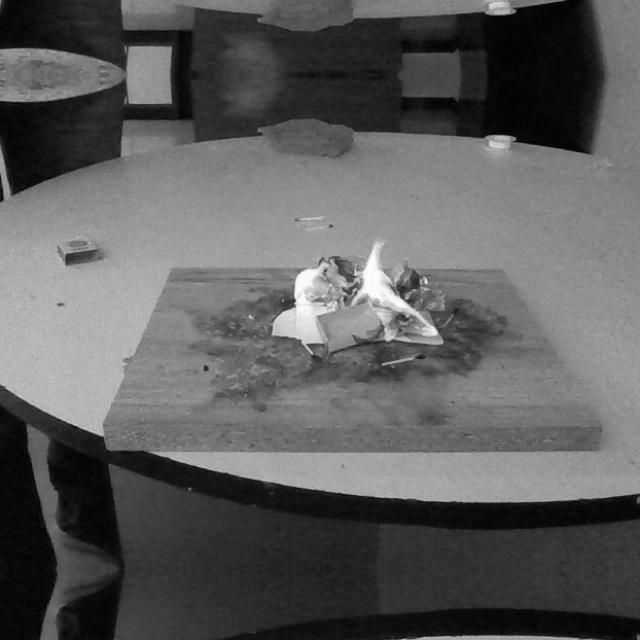smoke: (348, 236, 432, 342), (290, 258, 330, 316)
